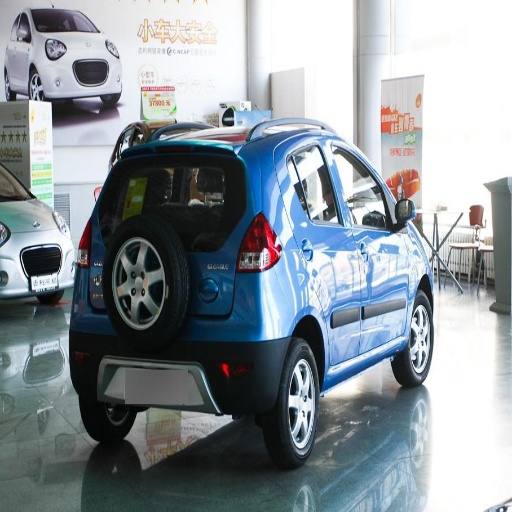back_bumper: (80, 267, 291, 407)
back_right_door: (287, 135, 366, 365)
trunk: (193, 228, 243, 302)
